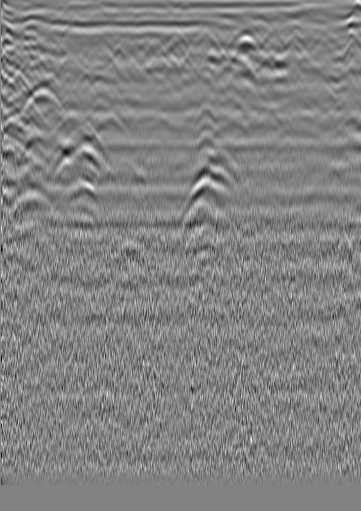가스: (61, 176, 102, 217)
상수: (312, 32, 332, 52)
오수: (24, 18, 44, 38)
우수: (164, 32, 184, 52)
